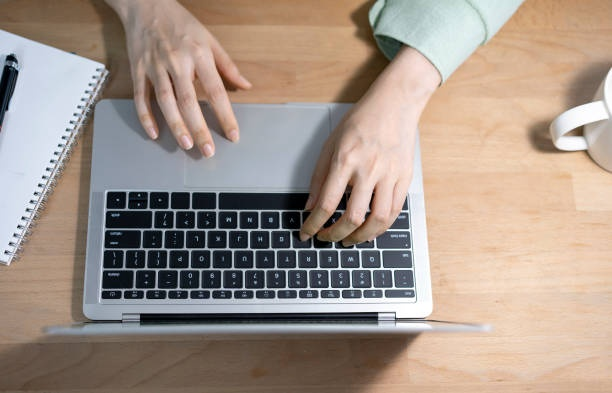keyboard: (100, 188, 416, 300)
laptop: (68, 96, 447, 332)
